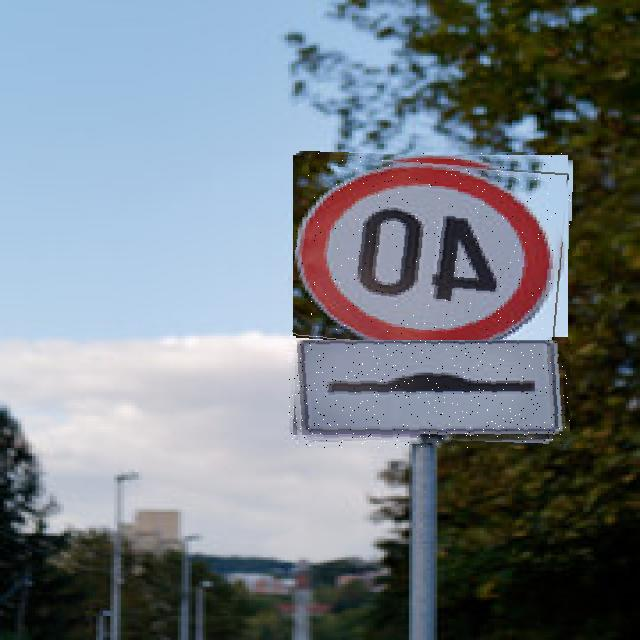hump: (288, 337, 570, 448)
speed limit 40: (294, 153, 572, 340)
